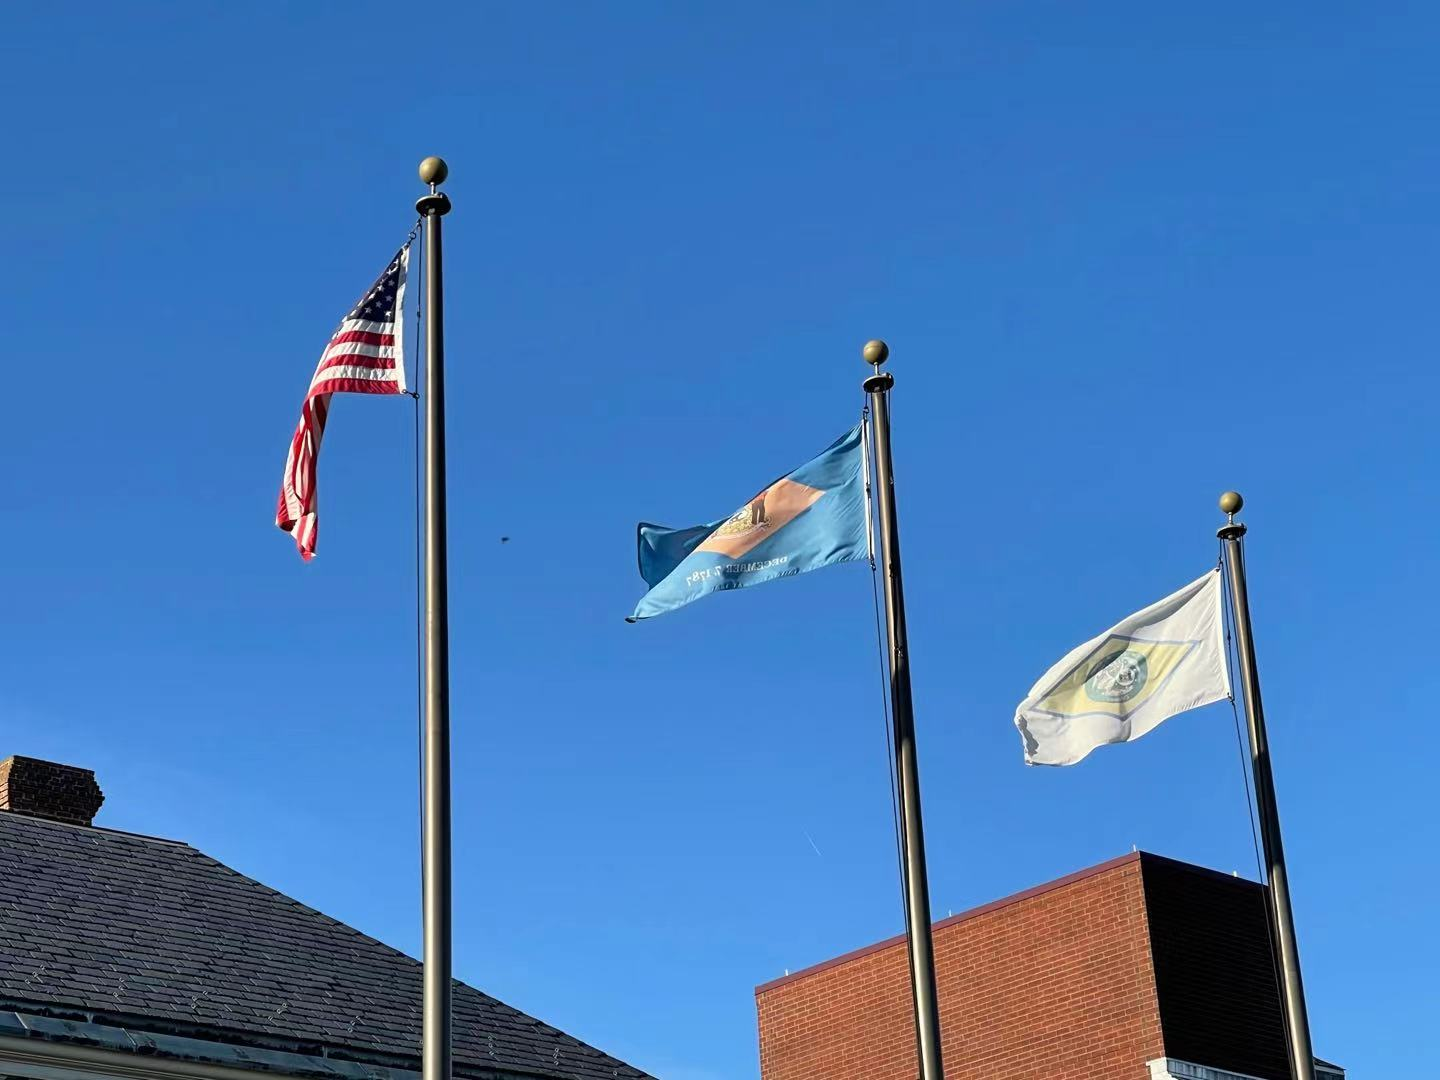America flag: (263, 230, 420, 565)
Delaware flag: (618, 412, 867, 625)
